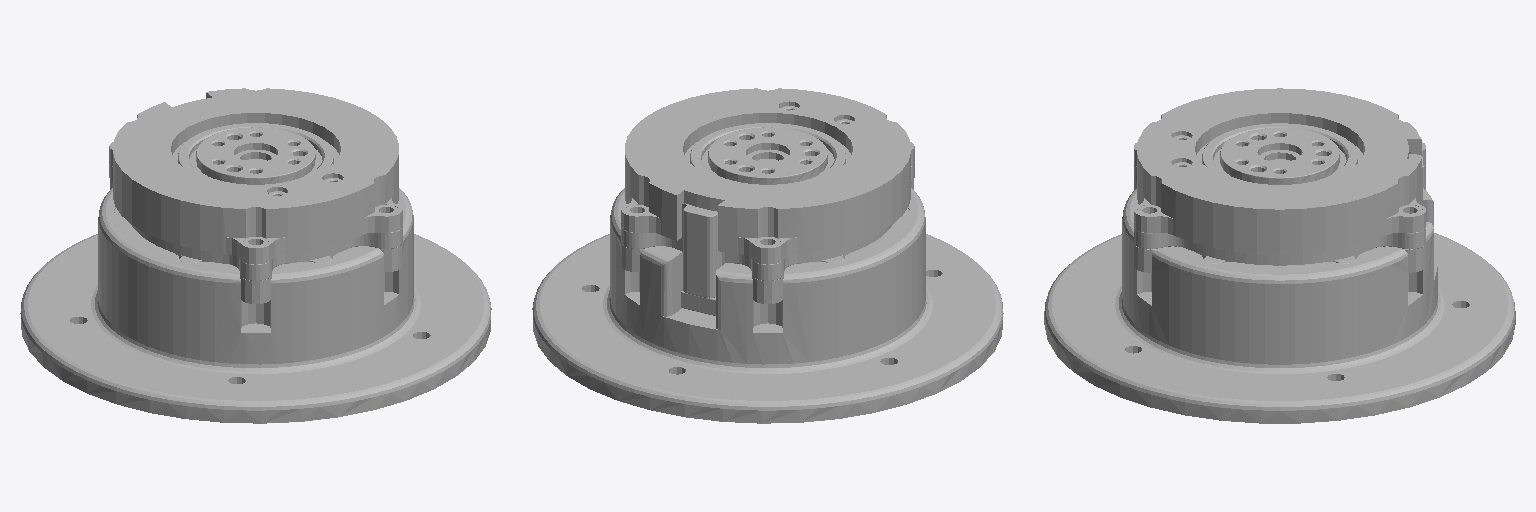
URDF robot description (hexapod_modelling_team):
<?xml version="1.0" encoding="utf-8"?>
<!-- This URDF was automatically created by SolidWorks to URDF Exporter! Originally created by [author] ([email redacted]) 
     Commit Version: 1.6.0-4-g7f85cfe  Build Version: 1.6.7995.38578
     For more information, please see http://wiki.ros.org/sw_urdf_exporter -->
<robot
  name="hexapod_modelling_team">
  <link
    name="base_link">
    <inertial>
      <origin
        xyz="0.0287154638056784 0.0247731094216198 0.035584269509276"
        rpy="0 0 0" />
      <mass
        value="0.382085922418597" />
      <inertia
        ixx="0.000410490029616126"
        ixy="-3.63493037242176E-10"
        ixz="0.000105450395848999"
        iyy="0.000858141213625033"
        iyz="-4.7056833493851E-07"
        izz="0.000481448906035878" />
    </inertial>
    <visual>
      <origin
        xyz="0 0 0"
        rpy="0 0 0" />
      <geometry>
        <mesh
          filename="package://hexapod_modelling_team/meshes/base_link.STL" />
      </geometry>
      <material
        name="">
        <color
          rgba="0.752941176470588 0.752941176470588 0.752941176470588 1" />
      </material>
    </visual>
    <collision>
      <origin
        xyz="0 0 0"
        rpy="0 0 0" />
      <geometry>
        <mesh
          filename="package://hexapod_modelling_team/meshes/base_link.STL" />
      </geometry>
    </collision>
  </link>
  <link
    name="link1">
    <inertial>
      <origin
        xyz="-0.0744903369422901 0.0426388780495074 0.00449405457409234"
        rpy="0 0 0" />
      <mass
        value="0.216695042917165" />
      <inertia
        ixx="0.000130440591615854"
        ixy="5.70003393072442E-05"
        ixz="1.47989875138492E-06"
        iyy="0.000175918627847008"
        iyz="-1.28953663827066E-06"
        izz="0.000157070086725617" />
    </inertial>
    <visual>
      <origin
        xyz="0 0 0"
        rpy="0 0 0" />
      <geometry>
        <mesh
          filename="package://hexapod_modelling_team/meshes/link1.STL" />
      </geometry>
      <material
        name="">
        <color
          rgba="0.752941176470588 0.752941176470588 0.752941176470588 1" />
      </material>
    </visual>
    <collision>
      <origin
        xyz="0 0 0"
        rpy="0 0 0" />
      <geometry>
        <mesh
          filename="package://hexapod_modelling_team/meshes/link1.STL" />
      </geometry>
    </collision>
  </link>
  <joint
    name="rev_1"
    type="continuous">
    <origin
      xyz="0.028716 -0.035372 0.064707"
      rpy="0 0 0" />
    <parent
      link="base_link" />
    <child
      link="link1" />
    <axis
      xyz="0 0 1" />
  </joint>
  <link
    name="link2">
    <inertial>
      <origin
        xyz="-0.0324493531460042 0.029972598412306 0.0123563925629702"
        rpy="0 0 0" />
      <mass
        value="0.0273014552676097" />
      <inertia
        ixx="1.37058949343199E-05"
        ixy="1.18686760093769E-05"
        ixz="1.29144870428884E-06"
        iyy="1.55925483685857E-05"
        iyz="-1.19287660232059E-06"
        izz="2.86373762930093E-05" />
    </inertial>
    <visual>
      <origin
        xyz="0 0 0"
        rpy="0 0 0" />
      <geometry>
        <mesh
          filename="package://hexapod_modelling_team/meshes/link2.STL" />
      </geometry>
      <material
        name="">
        <color
          rgba="0.792156862745098 0.819607843137255 0.933333333333333 1" />
      </material>
    </visual>
    <collision>
      <origin
        xyz="0 0 0"
        rpy="0 0 0" />
      <geometry>
        <mesh
          filename="package://hexapod_modelling_team/meshes/link2.STL" />
      </geometry>
    </collision>
  </link>
  <joint
    name="rev_2"
    type="continuous">
    <origin
      xyz="-0.079154 0.062411 0.0045"
      rpy="-1.5708 0 -0.51329" />
    <parent
      link="link1" />
    <child
      link="link2" />
    <axis
      xyz="0 0 1" />
  </joint>
</robot>

--- Render facts (derived) ---
The picture shows the robot from 3 angles, left to right: view 1: azimuth 30°, elevation 25°; view 2: azimuth 150°, elevation 25°; view 3: azimuth 270°, elevation 25°; orthographic projection.
Robot: hexapod_modelling_team — 3 links, 2 joints (2 continuous); root link base_link; default pose: every joint at zero.
Visible links, largest first — view 1: base_link; view 2: base_link; view 3: base_link.
Boxes of the visible links, bbox=[...] form: base_link: bbox=[20, 88, 491, 423]; base_link: bbox=[532, 88, 1003, 423]; base_link: bbox=[1044, 88, 1515, 423].
Bounding box of the posed robot: 0.13 × 0.13 × 0.0534 m (x, y, z).
Meshes: 3 distinct files referenced, 1 mesh visuals loaded (1 binary STL); not drawn: 2 (reference not matched to a file when rendering).